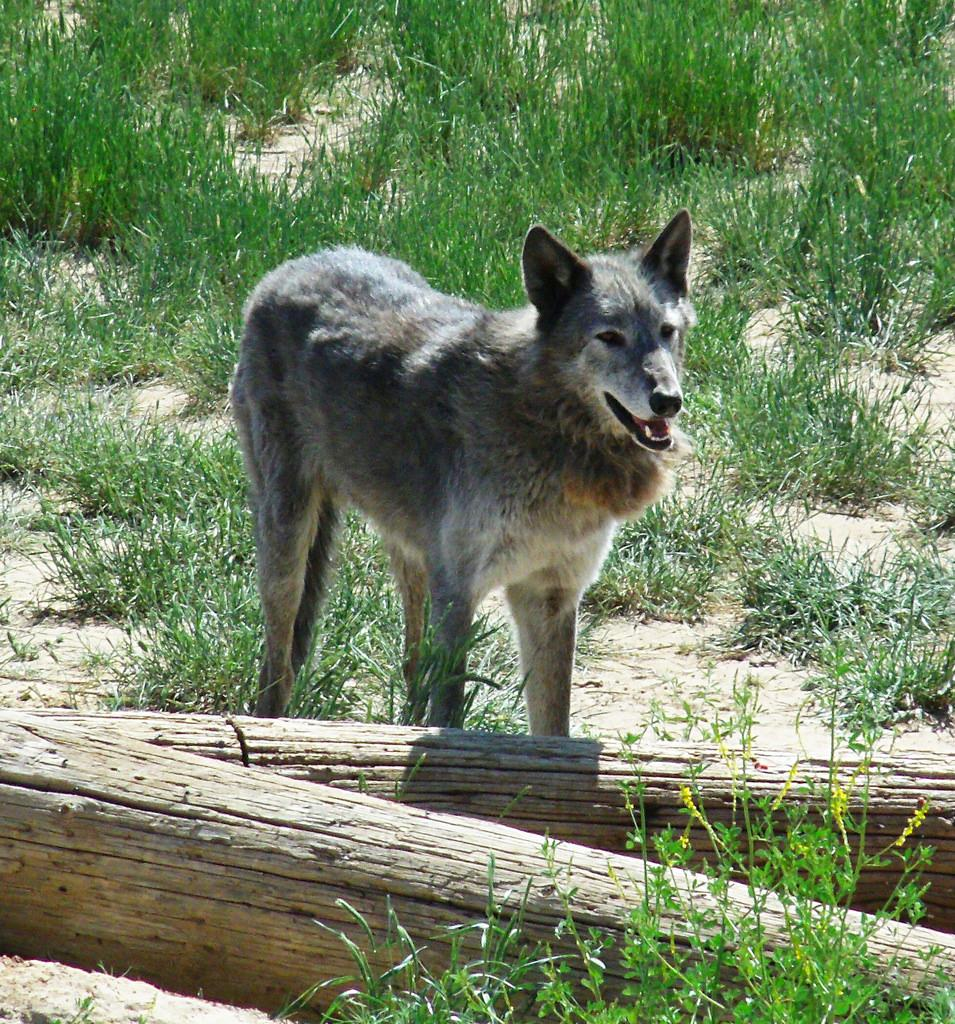Wolf: (234, 201, 703, 741)
